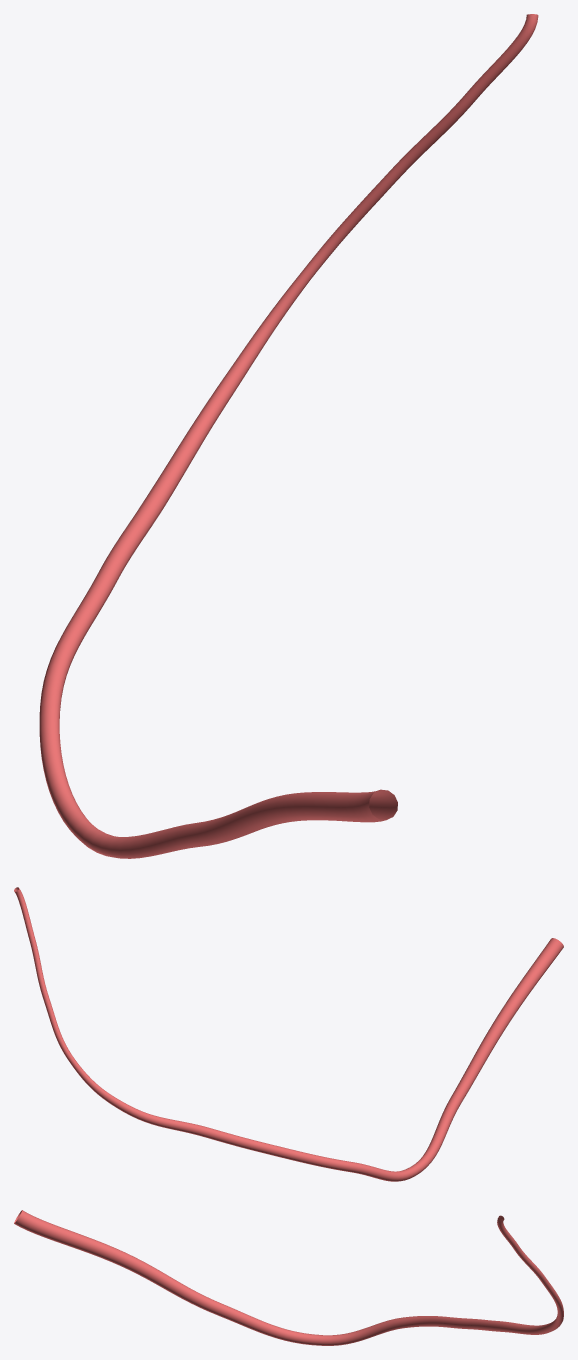
The model's file is Medial_circumflex_femoral_artery.l_BezierCurve.261.glb.
The picture shows the model from 3 angles, top to bottom: view 1: azimuth 30°, elevation 25°; view 2: azimuth 150°, elevation 25°; view 3: azimuth 270°, elevation 25°; orthographic projection. The views are drawn at different scales.
Parts seen in each view (by area): view 1: Medial_circumflex_femoral_artery.l_BezierCurve.261; view 2: Medial_circumflex_femoral_artery.l_BezierCurve.261; view 3: Medial_circumflex_femoral_artery.l_BezierCurve.261.
Boxes of the visible parts, <box> form: Medial_circumflex_femoral_artery.l_BezierCurve.261: <box>39,14,538,858</box>; Medial_circumflex_femoral_artery.l_BezierCurve.261: <box>14,887,563,1181</box>; Medial_circumflex_femoral_artery.l_BezierCurve.261: <box>14,1210,563,1345</box>.
Bounding box in the file's own units: 0.0425 × 0.0352 × 0.0614.
